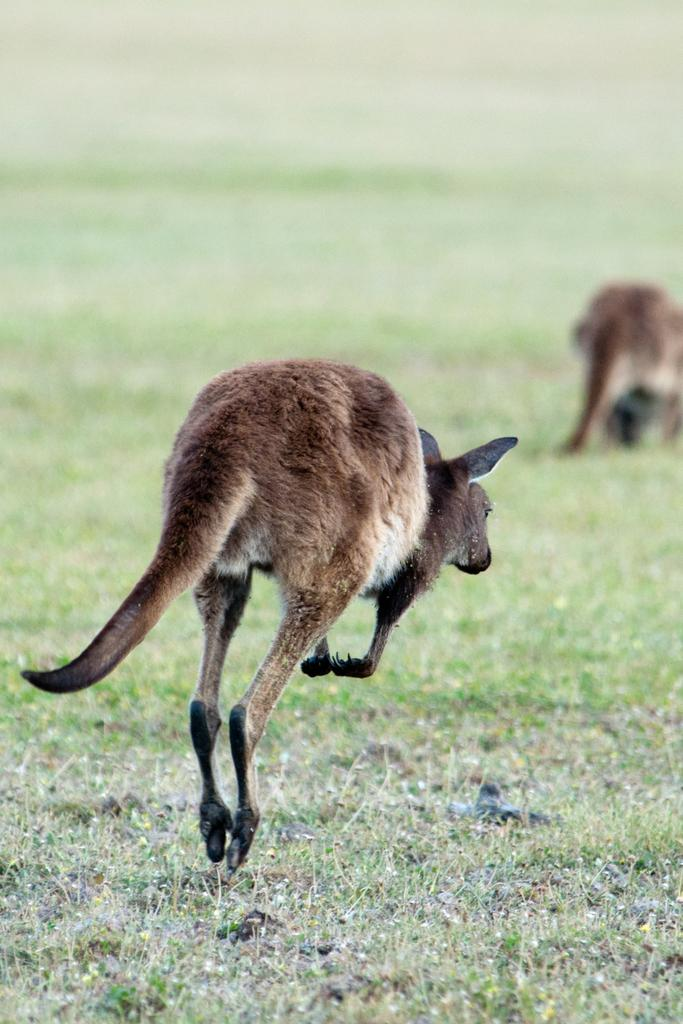kangaroo: (16, 354, 520, 876), (560, 274, 682, 470)
